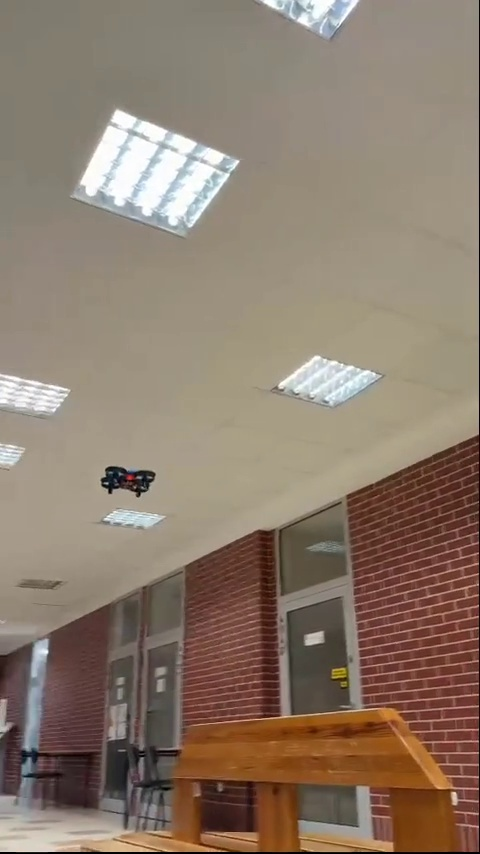drone: (106, 468, 155, 504)
